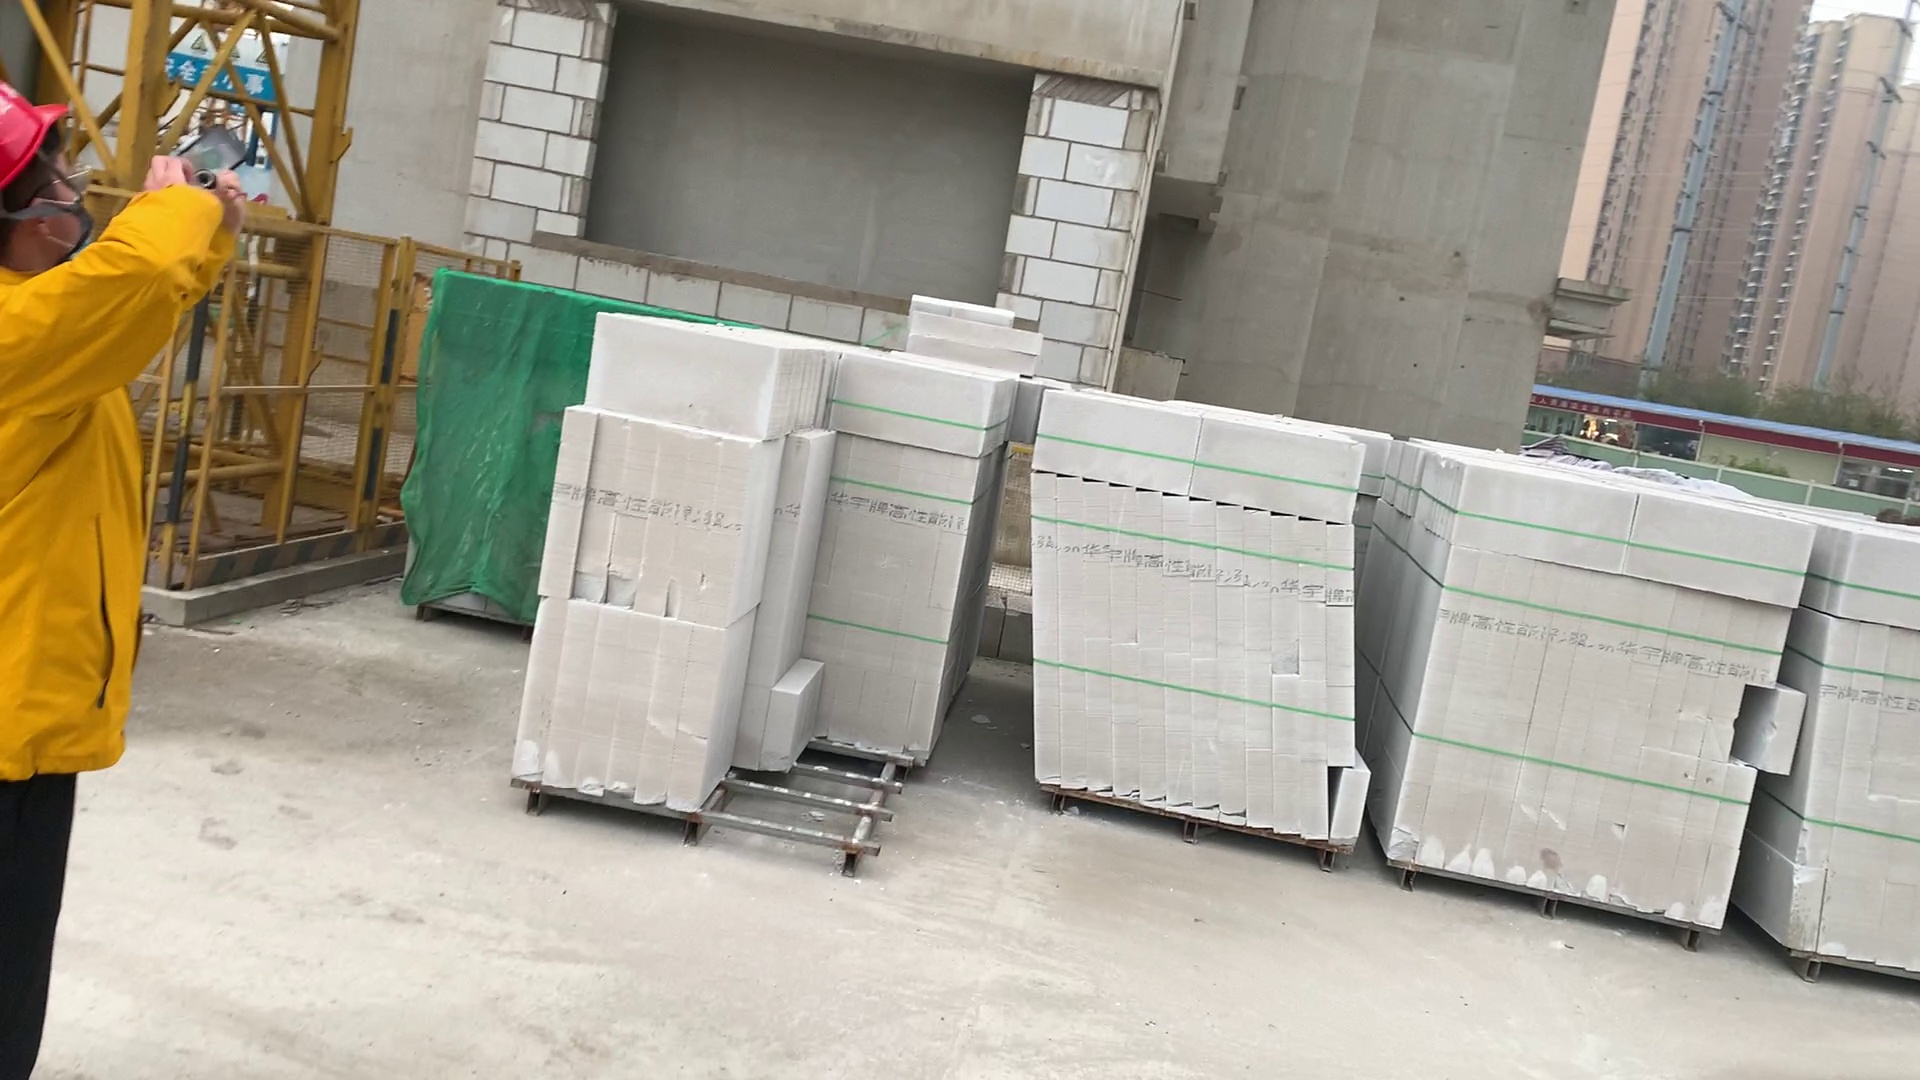brickwork: (502, 322, 978, 831), (1410, 442, 1785, 938), (1019, 392, 1360, 843), (397, 247, 549, 622), (1807, 530, 1920, 960)
